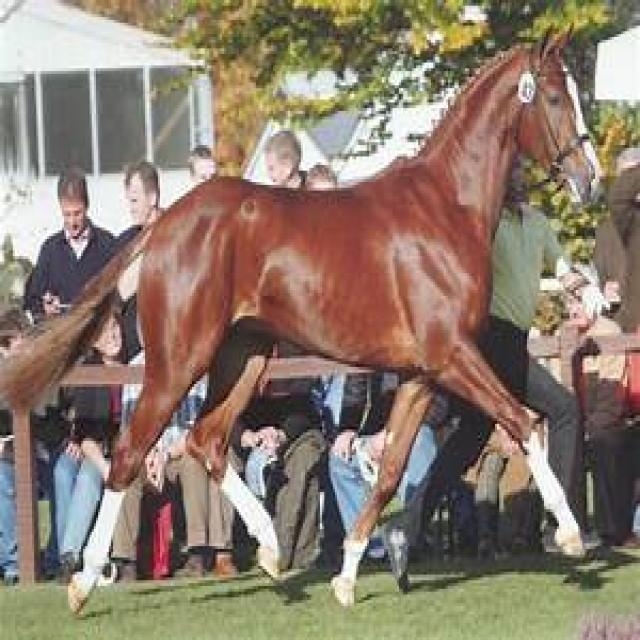horse: (105, 48, 591, 549)
